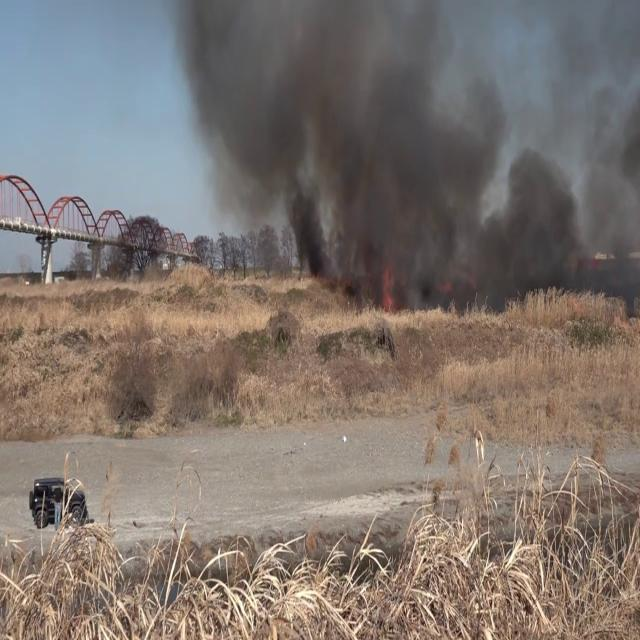Smoke: (172, 0, 622, 313), (326, 1, 638, 313), (172, 0, 340, 273)
